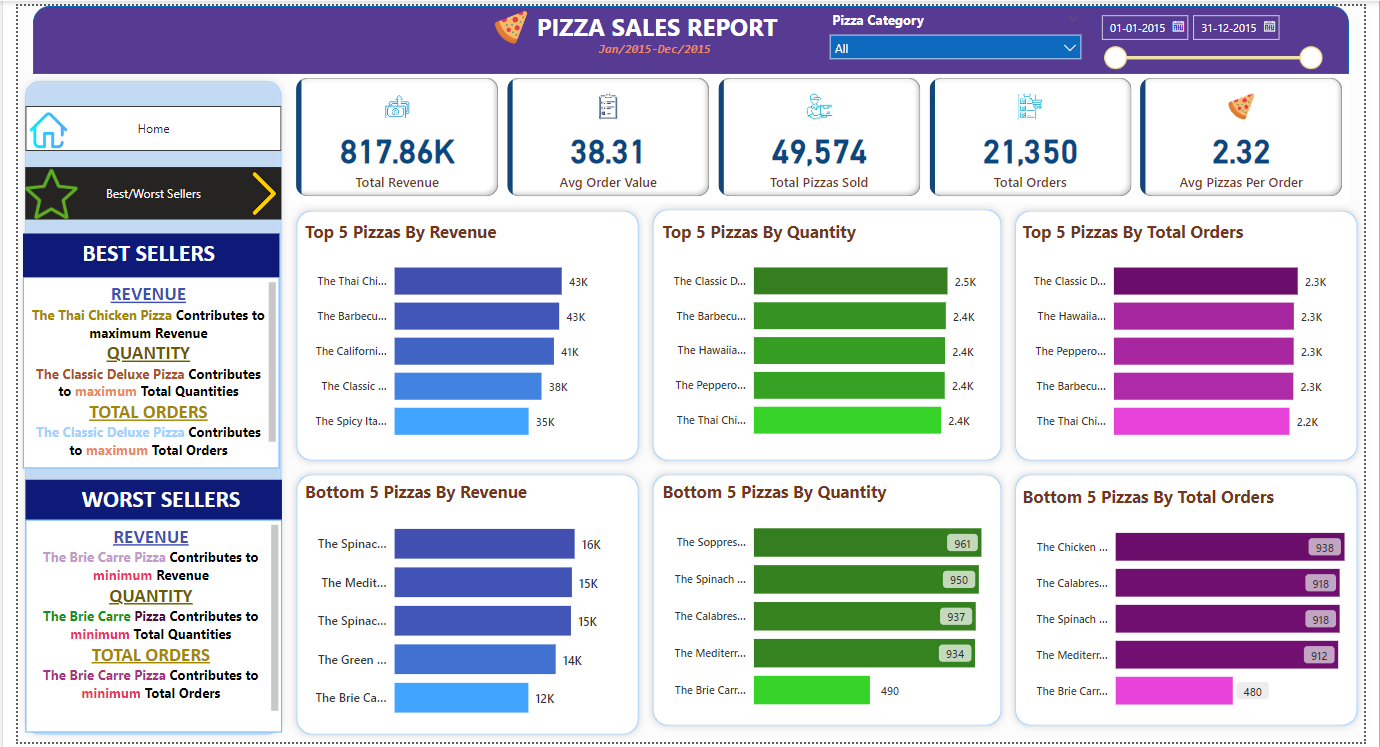

What the dashboard file says about the page in this screenshot:
{"tool":"powerbi","page":{"name":"Best/Worst Sellers","canvas":[1500,820],"ordinal":1},"visuals":[{"type":"shape","box":[0,75.7,301.4,744.3],"z":0},{"type":"cardVisual","fields":{"Data":["pizza_sales.Total Revenue","pizza_sales.Avg Order Value","pizza_sales.Total Pizzas Sold","pizza_sales.Total Orders","pizza_sales.Avg Pizzas Per Order"]},"box":[304.3,75.7,1178.6,142.9],"z":1000},{"type":"shape","box":[17.1,0,1465.7,75.7],"z":2000},{"type":"textbox","box":[567.1,0,290,47.1],"z":3000},{"type":"textbox","box":[618.6,32.9,181.4,64.3],"z":4000},{"type":"image","box":[515.7,0,67.1,47.1],"z":5000},{"type":"shape","box":[301.4,220,397.1,294.3],"z":6000},{"type":"textbox","box":[5.7,252.9,285.7,48.6],"z":7000},{"type":"textbox","box":[5.7,301.4,285.7,212.9],"z":8000},{"type":"textbox","box":[8.6,527.1,285.7,45.7],"z":9000},{"type":"textbox","box":[8.6,572.9,285.7,237.1],"z":10000},{"type":"slicer","fields":{"Values":["pizza_sales.pizza_category"]},"box":[894.3,0,300,65.7],"z":11000},{"type":"slicer","fields":{"Values":["pizza_sales.Parse"]},"box":[1194.3,0,267.1,75.7],"z":12000},{"type":"shape","box":[698.6,218.6,404.3,295.7],"z":13000},{"type":"shape","box":[1102.9,220,397.1,294.3],"z":14000},{"type":"shape","box":[301.4,514.3,397.1,305.7],"z":15000},{"type":"shape","box":[698.6,514.3,404.3,295.7],"z":16000},{"type":"shape","box":[1102.9,514.3,397.1,295.7],"z":17000},{"type":"barChart","title":"Top 5 Pizzas By Revenue","fields":{"Y":["pizza_sales.Total Revenue"],"Category":["pizza_sales.pizza_name"]},"box":[314.3,238.6,367.1,261.4],"z":18000},{"type":"barChart","title":"Bottom 5 Pizzas By Revenue","fields":{"Y":["pizza_sales.Total Revenue"],"Category":["pizza_sales.pizza_name"]},"box":[314.3,527.1,367.1,282.9],"z":19000},{"type":"barChart","title":"Top 5 Pizzas By Quantity","fields":{"Y":["pizza_sales.Total Pizzas Sold"],"Category":["pizza_sales.pizza_name"]},"box":[712.9,238.6,375.7,260],"z":20000},{"type":"barChart","title":"Bottom 5 Pizzas By Quantity","fields":{"Y":["pizza_sales.Total Pizzas Sold"],"Category":["pizza_sales.pizza_name"]},"box":[712.9,527.1,375.7,272.9],"z":21000},{"type":"barChart","title":"Top 5 Pizzas By Total Orders","fields":{"Category":["pizza_sales.pizza_name"],"Y":["pizza_sales.Total Orders"]},"box":[1114.3,238.6,375.7,261.4],"z":22000},{"type":"barChart","title":"Bottom 5 Pizzas By Total Orders","fields":{"Category":["pizza_sales.pizza_name"],"Y":["pizza_sales.Total Orders"]},"box":[1114.3,532.9,385.7,267.1],"z":23000},{"type":"pageNavigator","box":[8.6,180,285.7,58.6],"z":24000},{"type":"pageNavigator","box":[8.6,111.4,285.7,50],"z":25000},{"type":"image","box":[245.7,180,58.6,58.6],"z":26000},{"type":"image","box":[8.6,107.1,51.4,61.4],"z":26001},{"type":"image","box":[0,175.7,74.3,68.6],"z":26002}]}

Visuals, with their boxes in screenshot pixels (x1, y1, x2, y2), scaled from the page's 1500x820 canvas onto the 1380x747 screenshot:
shape: box(0, 69, 277, 746)
cardVisual - pizza_sales.Total Revenue x pizza_sales.Avg Order Value: box(280, 69, 1364, 199)
shape: box(16, 0, 1364, 69)
textbox: box(522, 0, 789, 43)
textbox: box(569, 30, 736, 89)
image: box(474, 0, 536, 43)
shape: box(277, 200, 643, 469)
textbox: box(5, 230, 268, 275)
textbox: box(5, 275, 268, 469)
textbox: box(8, 480, 271, 522)
textbox: box(8, 522, 271, 738)
slicer - pizza_sales.pizza_category: box(823, 0, 1099, 60)
slicer - pizza_sales.Parse: box(1099, 0, 1344, 69)
shape: box(643, 199, 1015, 469)
shape: box(1015, 200, 1379, 469)
shape: box(277, 469, 643, 746)
shape: box(643, 469, 1015, 738)
shape: box(1015, 469, 1379, 738)
"Top 5 Pizzas By Revenue" barChart: box(289, 217, 627, 455)
"Bottom 5 Pizzas By Revenue" barChart: box(289, 480, 627, 738)
"Top 5 Pizzas By Quantity" barChart: box(656, 217, 1002, 454)
"Bottom 5 Pizzas By Quantity" barChart: box(656, 480, 1002, 729)
"Top 5 Pizzas By Total Orders" barChart: box(1025, 217, 1371, 455)
"Bottom 5 Pizzas By Total Orders" barChart: box(1025, 485, 1379, 729)
pageNavigator: box(8, 164, 271, 217)
pageNavigator: box(8, 101, 271, 147)
image: box(226, 164, 280, 217)
image: box(8, 98, 55, 153)
image: box(0, 160, 68, 223)
